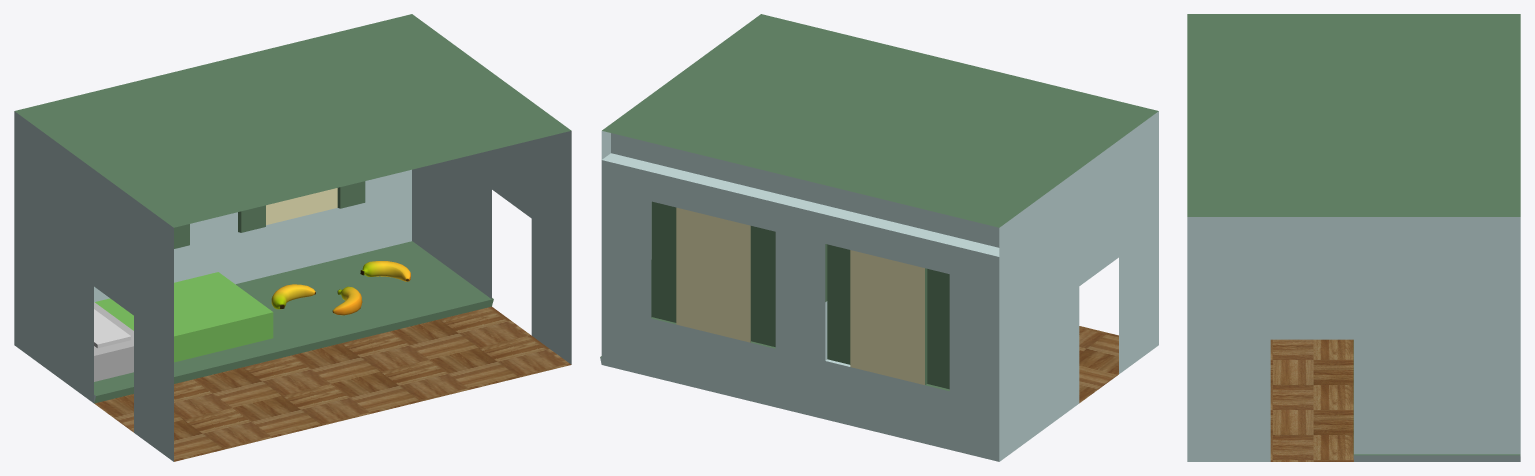
3 views of the same model, side by side, from view 1: azimuth 30°, elevation 25°; view 2: azimuth 150°, elevation 25°; view 3: azimuth 270°, elevation 25° (orthographic). The views are drawn at different scales.
Visible parts, largest first — view 1: Cube, Cube.001, Banana, Banana_Banana_0.002, Banana_Banana_0.001; view 2: Cube; view 3: Cube.
Part boxes in pixels (bbox=[...]): Cube: bbox=[14, 14, 571, 461]; Cube.001: bbox=[94, 272, 273, 381]; Banana: bbox=[360, 261, 410, 281]; Banana_Banana_0.002: bbox=[271, 284, 315, 309]; Banana_Banana_0.001: bbox=[332, 286, 362, 315]; Cube: bbox=[600, 14, 1158, 461]; Cube: bbox=[1187, 14, 1520, 461].
Size of the model in its own units: 3.86 by 2.16 by 2.67.
11 materials, 4 textured.
